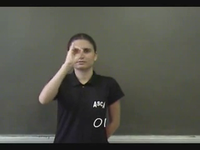oi: (62, 40, 85, 69)
